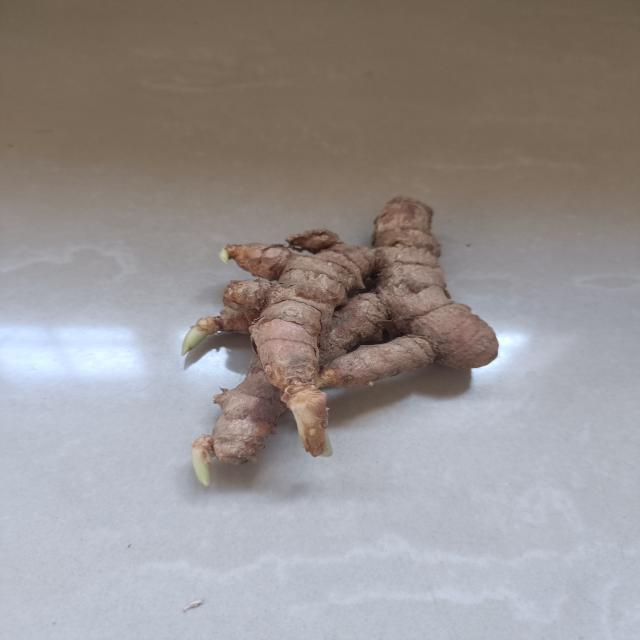ginger: (179, 195, 501, 492)
